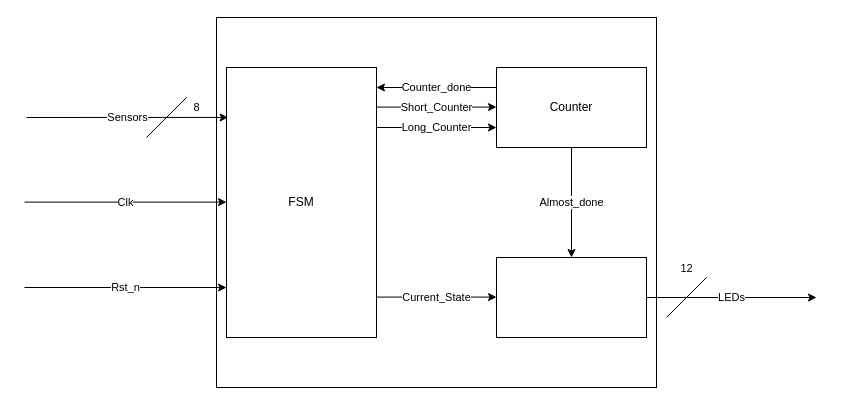
This 842x405 diagram has some shape labels left out. Here are the shapes that lost their labels. From the top down, the box of each, then its label:
(216, 16, 656, 388): TOP
(496, 256, 646, 338): Actuator
